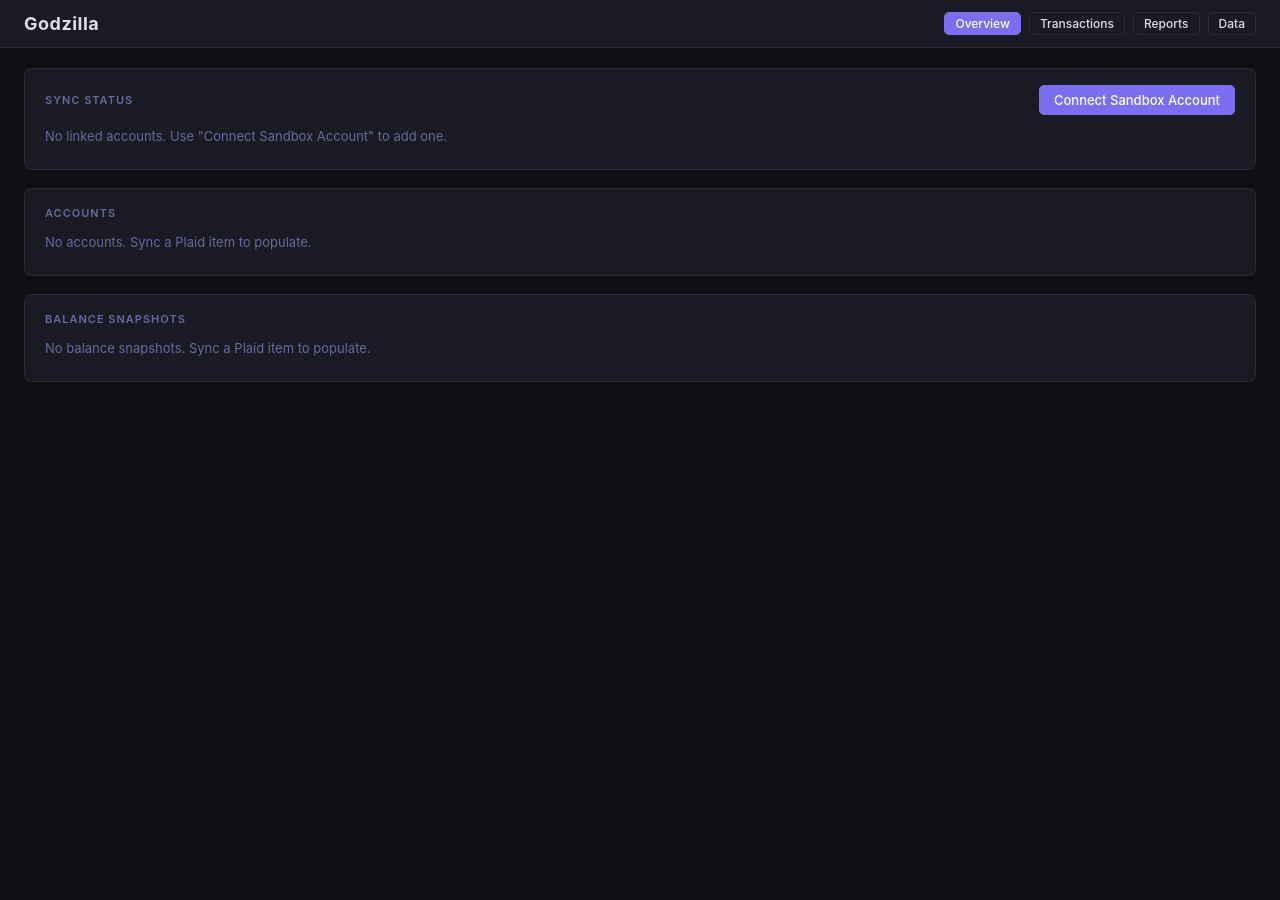
Test: App › renders budget-panel when token is present  REQ: ACC-BUD-001
Click the button with test id "tab-reports".
click(1166, 24)  # box [1133,12,1200,35]
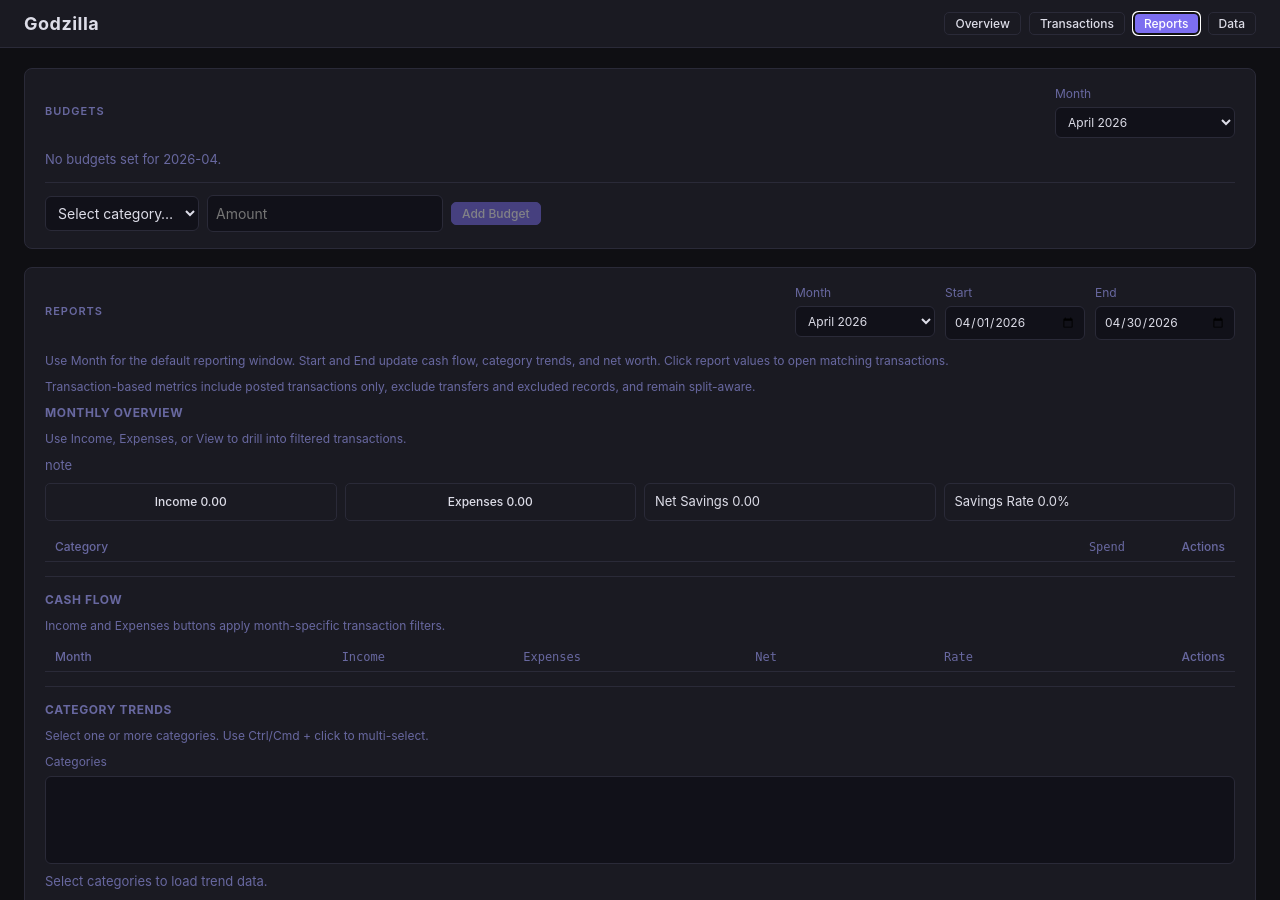
Expected: the element with test id "budget-panel" is shown, [24,68,1256,248]
